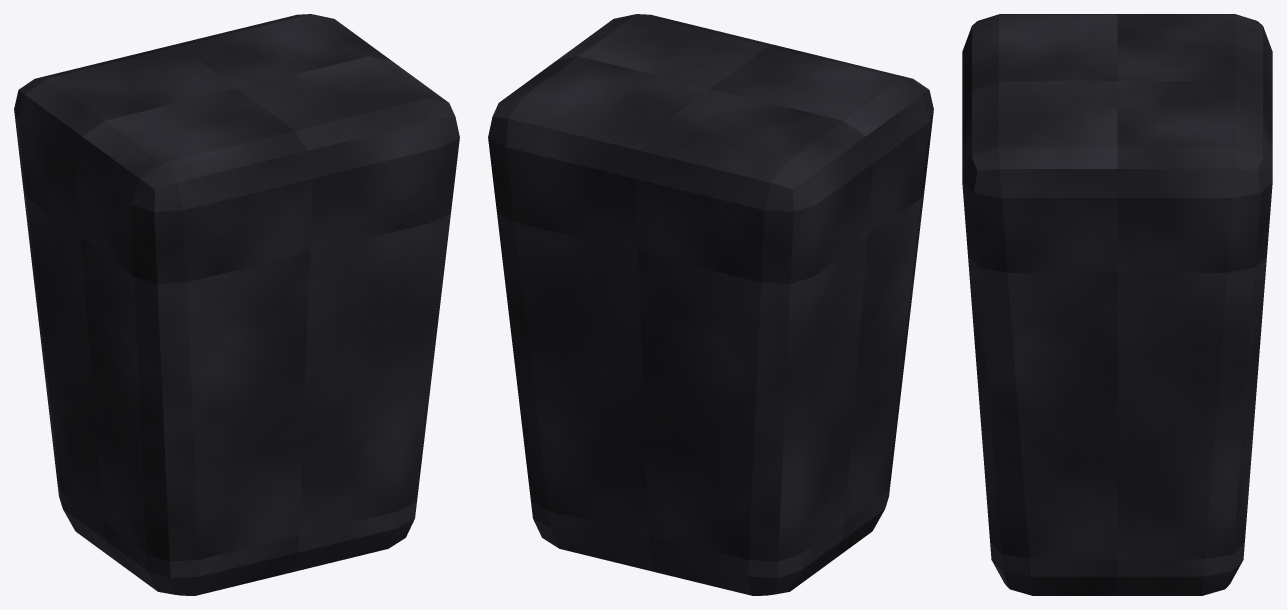
File: Zombie_Spine.obj
3 views of the same model, side by side, from view 1: azimuth 30°, elevation 25°; view 2: azimuth 150°, elevation 25°; view 3: azimuth 270°, elevation 25° (orthographic). The views are drawn at different scales.
Bounding box in the file's own units: 0.3901 × 0.52 × 0.3146.
Materials: 1 (1 with a texture image).
